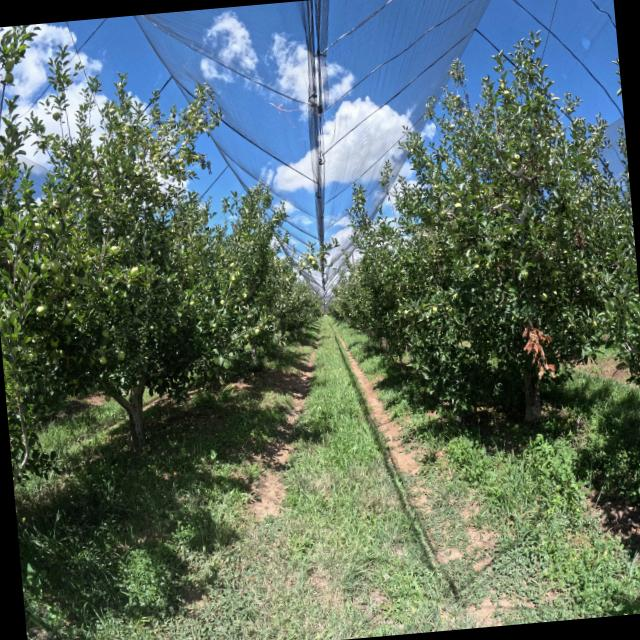-FireBlight-: (519, 323, 557, 382)
